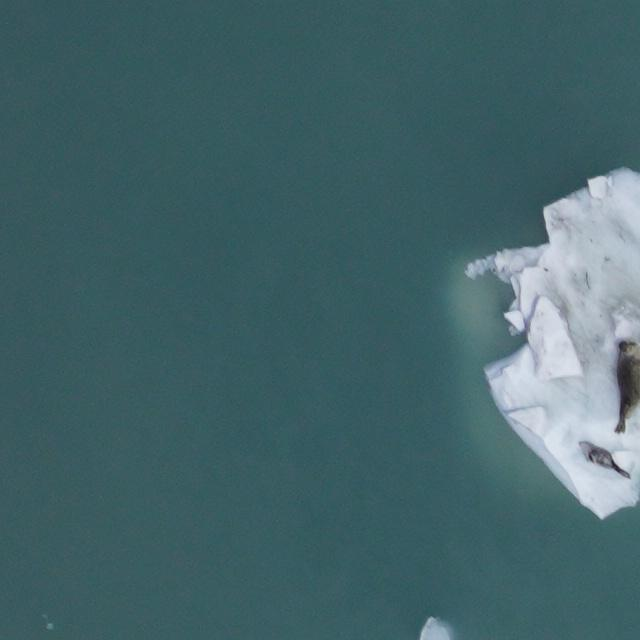seal: (572, 437, 637, 482), (615, 340, 639, 433)
